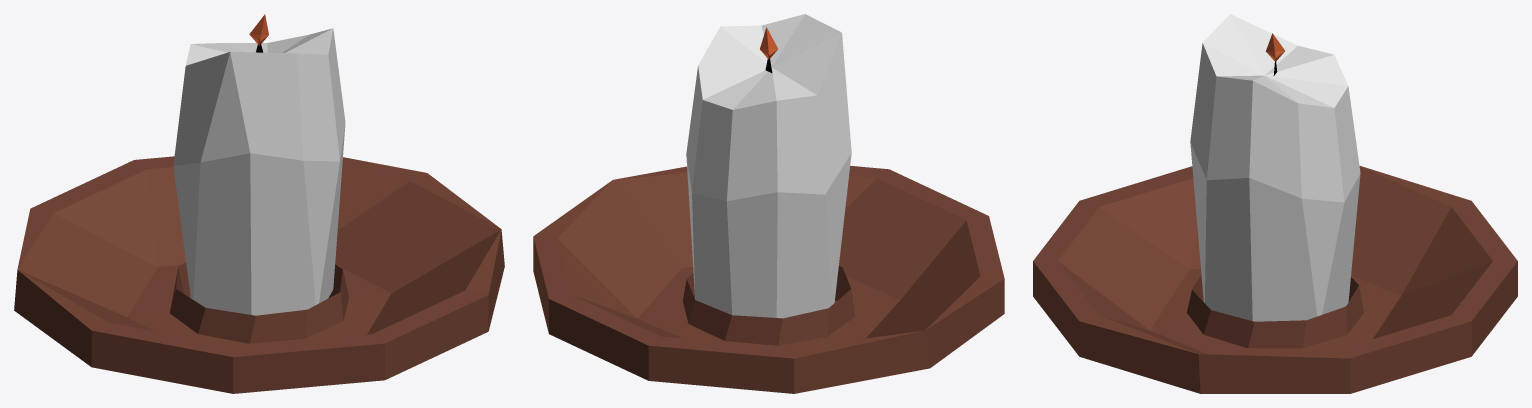
File: Candle.glb
3 views of the same model, side by side, from view 1: azimuth 30°, elevation 25°; view 2: azimuth 150°, elevation 25°; view 3: azimuth 270°, elevation 25° (orthographic). The views are drawn at different scales.
Visible parts, largest first — view 1: Candle; view 2: Candle; view 3: Candle.
Boxes of the visible parts, box(x1,y1,x2,y2) form: Candle: box(14, 14, 504, 393); Candle: box(533, 14, 1004, 393); Candle: box(1033, 14, 1517, 393).
Bounding box in the file's own units: 1.9 × 1.36 × 2.
